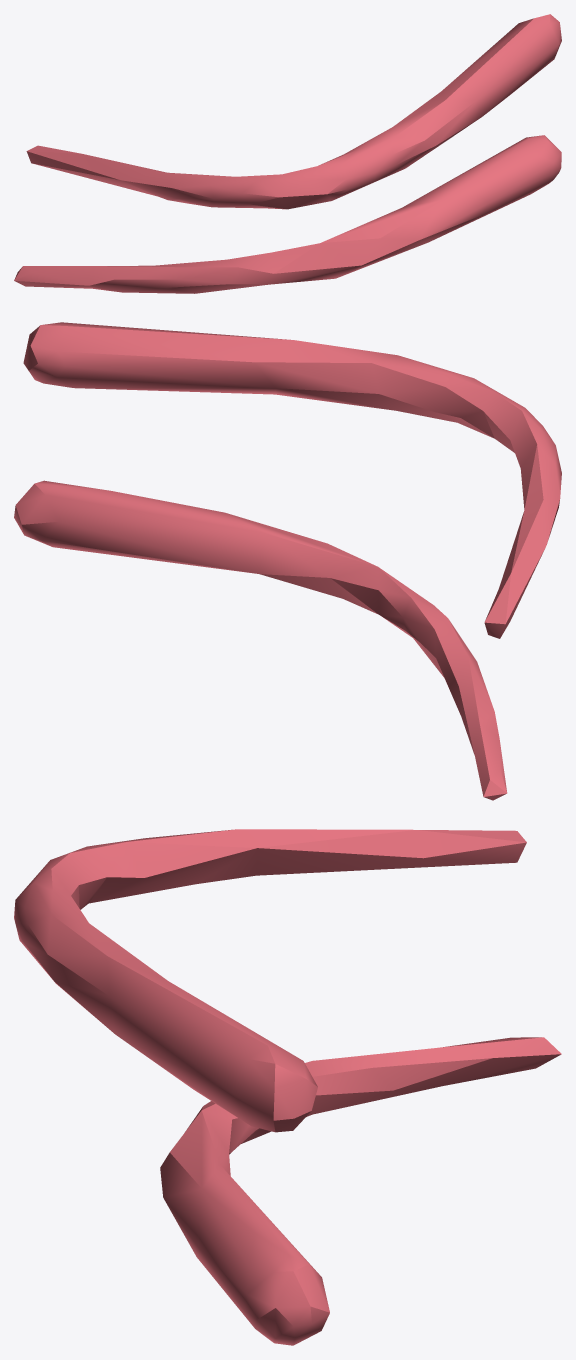
The model's file is fma50566_fj1689.glb.
3 views of the same model, one above another, from view 1: azimuth 30°, elevation 25°; view 2: azimuth 150°, elevation 25°; view 3: azimuth 270°, elevation 25° (orthographic). The views are drawn at different scales.
Parts seen in each view (by area): view 1: FMA50566_FJ1689; view 2: FMA50566_FJ1689; view 3: FMA50566_FJ1689.
Boxes of the visible parts, x1=… form: FMA50566_FJ1689: x1=14, y1=14, x2=561, y2=293; FMA50566_FJ1689: x1=14, y1=322, x2=561, y2=800; FMA50566_FJ1689: x1=14, y1=829, x2=561, y2=1345.
Bounding box in the file's own units: 0.00973 × 0.00439 × 0.00588.
